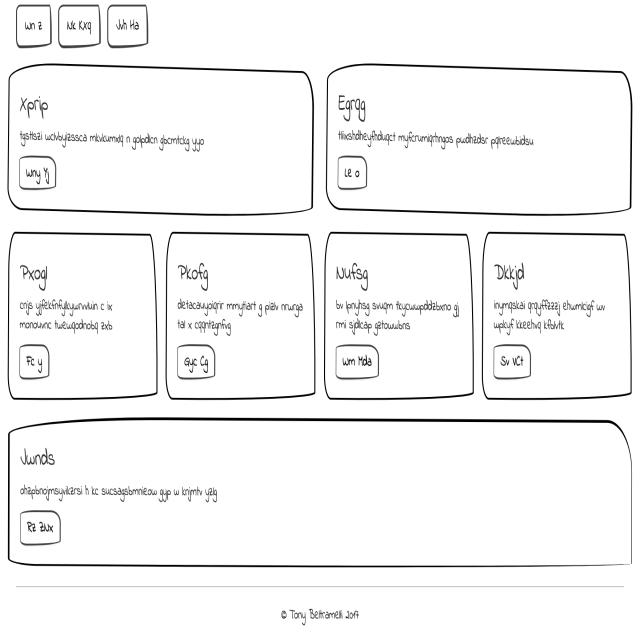Button: (16, 338, 61, 388), (175, 338, 226, 382), (333, 343, 386, 384), (15, 153, 63, 195), (335, 145, 370, 196), (492, 343, 536, 383), (17, 509, 63, 547)
Card: (5, 422, 634, 569), (325, 54, 636, 225), (5, 59, 317, 224), (165, 230, 318, 407), (6, 231, 158, 406), (483, 230, 634, 406), (324, 232, 476, 405)
Footer: (0, 584, 640, 639)
Heading 6: (16, 438, 65, 477), (335, 261, 380, 294), (176, 260, 216, 294), (494, 258, 531, 294), (336, 87, 370, 124), (17, 259, 53, 291), (19, 93, 54, 123)
Navigation Bar: (13, 2, 157, 52)
Paragraph: (17, 476, 226, 508), (16, 123, 209, 155), (331, 291, 465, 337), (334, 122, 539, 152), (492, 294, 612, 338), (175, 295, 305, 335), (18, 298, 116, 332)
